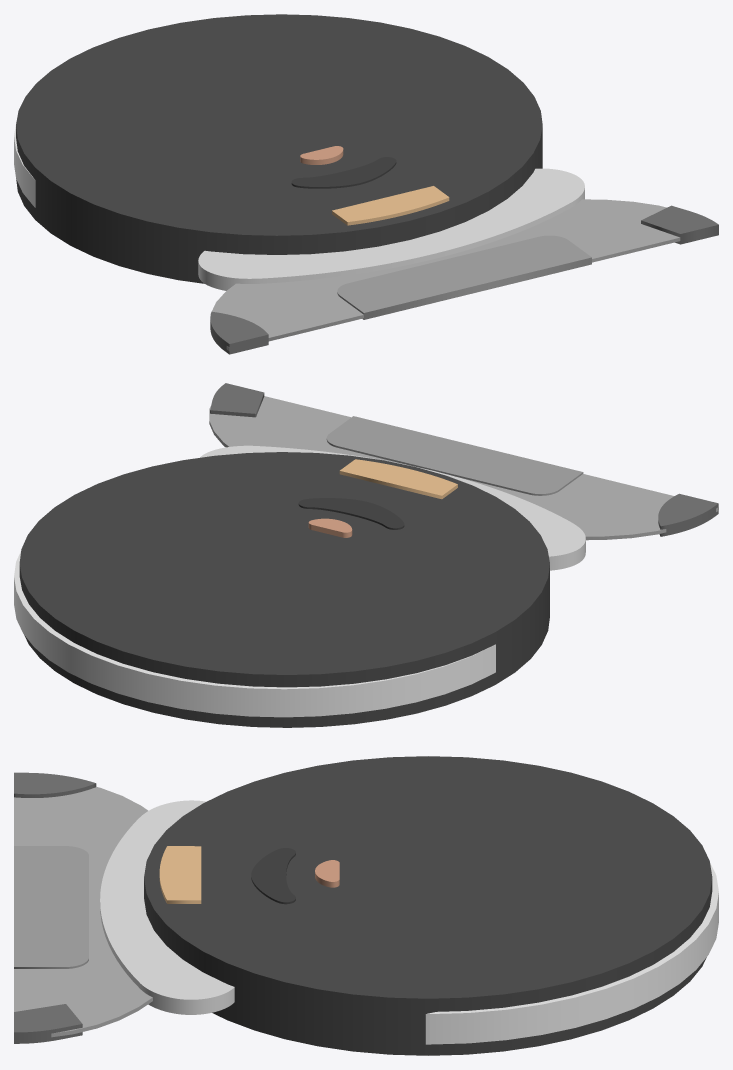
File: emoji_u1f469_1f3fb_200d_1f680.glb
The picture shows the model from 3 angles, top to bottom: view 1: azimuth 30°, elevation 25°; view 2: azimuth 150°, elevation 25°; view 3: azimuth 270°, elevation 25°; orthographic projection. The views are drawn at different scales.
Visible parts, largest first — view 1: emoji_u1f469_1f3fb_200d_1f680; view 2: emoji_u1f469_1f3fb_200d_1f680; view 3: emoji_u1f469_1f3fb_200d_1f680.
Boxes of the visible parts, <box> form: emoji_u1f469_1f3fb_200d_1f680: <box>14,14,718,354</box>; emoji_u1f469_1f3fb_200d_1f680: <box>14,383,718,727</box>; emoji_u1f469_1f3fb_200d_1f680: <box>14,756,718,1055</box>.
Size of the model in its own units: 0.0293 by 0.0036 by 0.0336.
